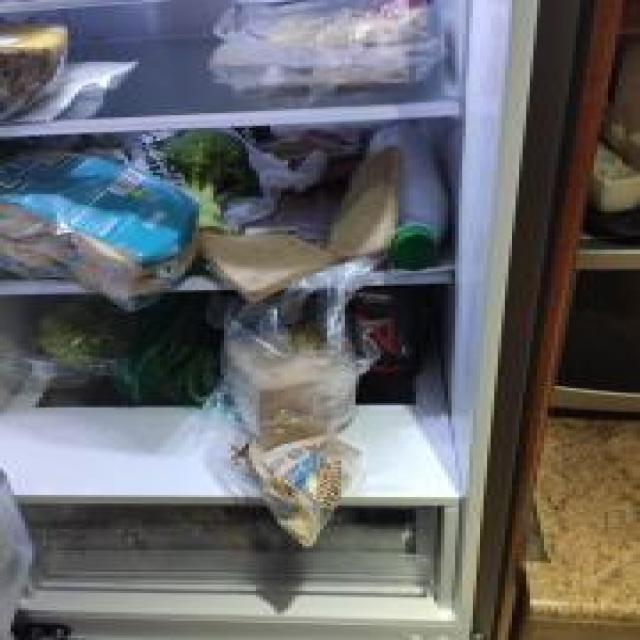bread: (219, 327, 361, 445)
broccoli: (156, 129, 266, 232)
green_beans: (123, 294, 222, 404)
milk: (368, 124, 453, 273)
pineapple: (0, 19, 71, 122)
salad: (25, 302, 124, 379)
